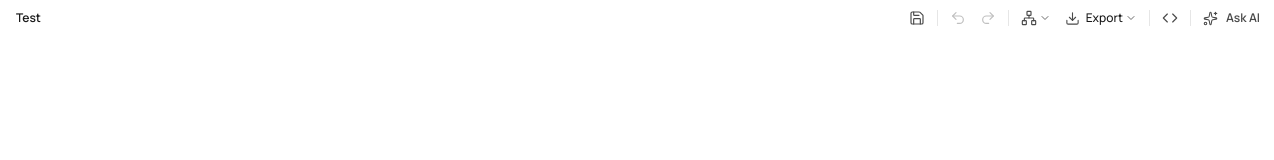
it: Arrange menu (formerly Layout) — auto layout (#3, #219 T16) › does not arrange when nothing is selected — items are disabled and say why (#182)
Click the 4th button named "Arrange": (1036, 18) [1015,4,1057,32]
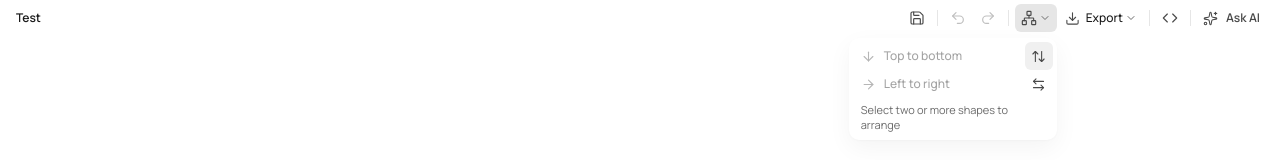
Expected: the menu item "Top to bottom" is disabled, [853,42,1023,70]
Expected: the menu item "Left to right" is disabled, [853,70,1023,98]
Expected: the text "Select two or more shapes to arrange" is shown, [861,102,1008,132]
